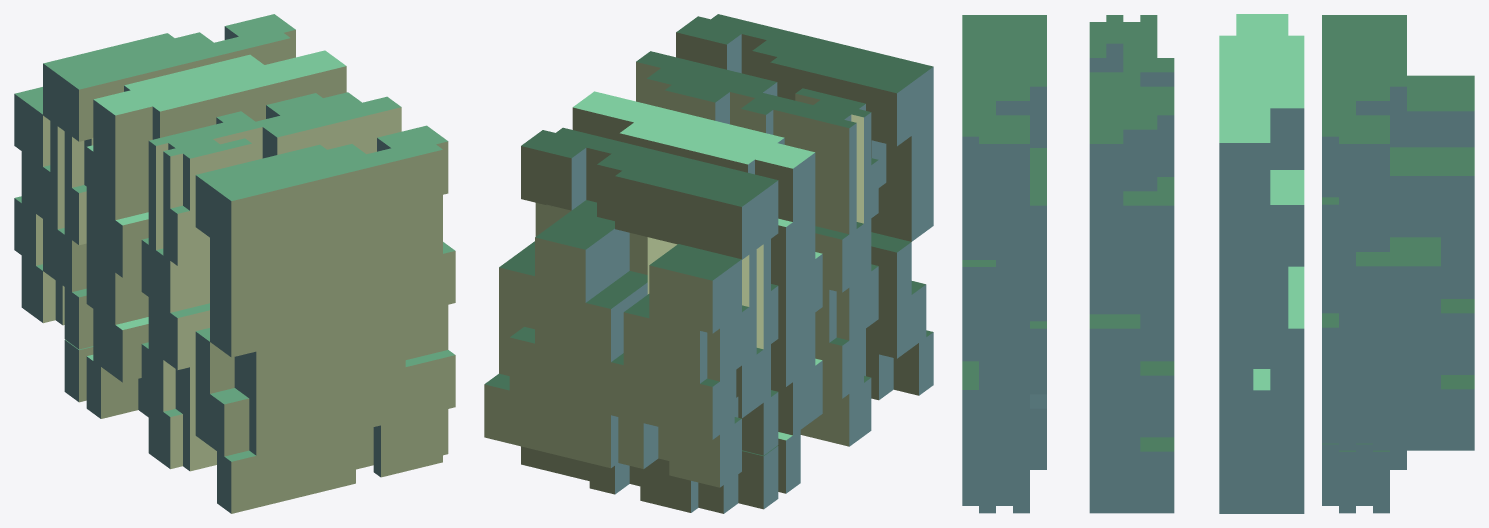
The model's file is addon_cargo_lrg_cont_a.glb.
3 renders of one model, left to right at view 1: azimuth 30°, elevation 25°; view 2: azimuth 150°, elevation 25°; view 3: azimuth 270°, elevation 25°, orthographic. The views are drawn at different scales.
Size of the model in its own units: 45 by 60.27 by 75.5.
